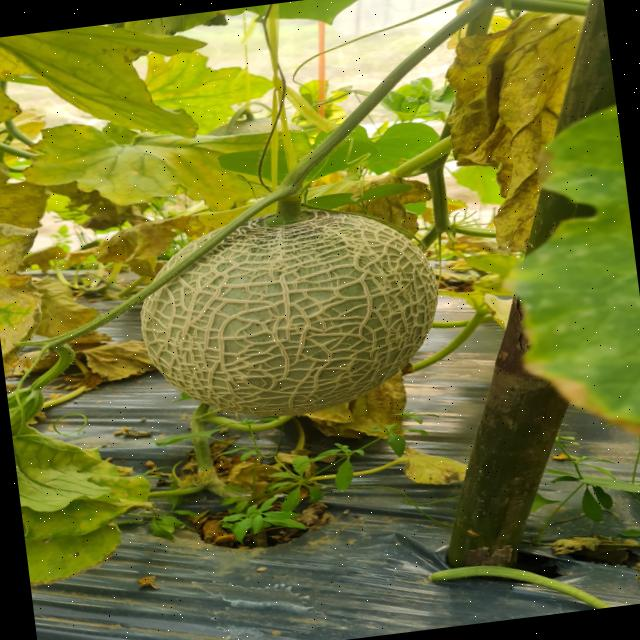melon: (140, 209, 438, 416)
